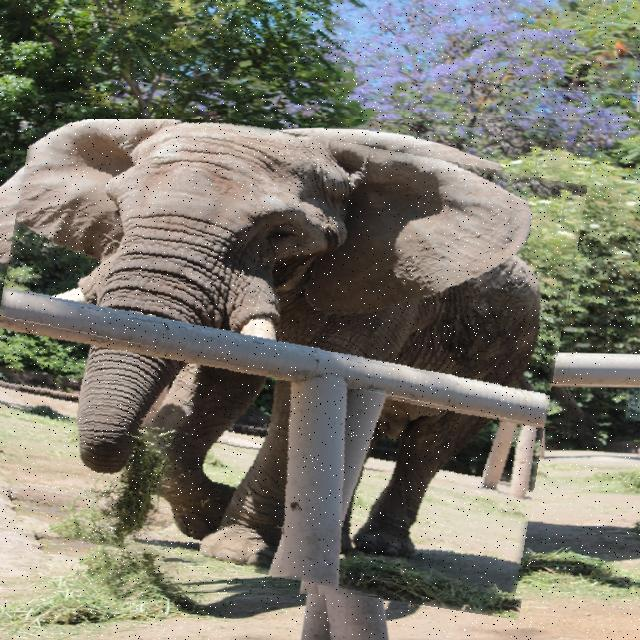elephant: (0, 119, 572, 600)
